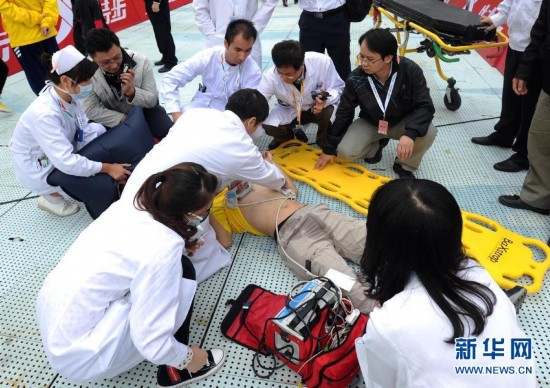fall: (214, 163, 380, 300)
